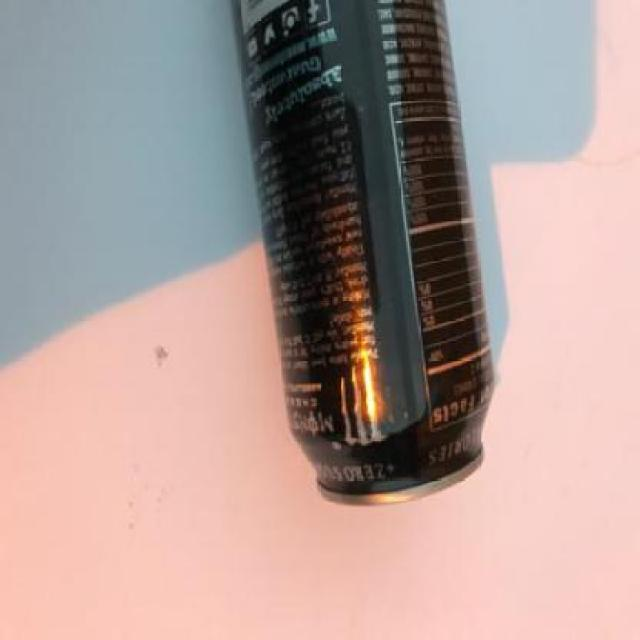METAL: (231, 2, 498, 506)
